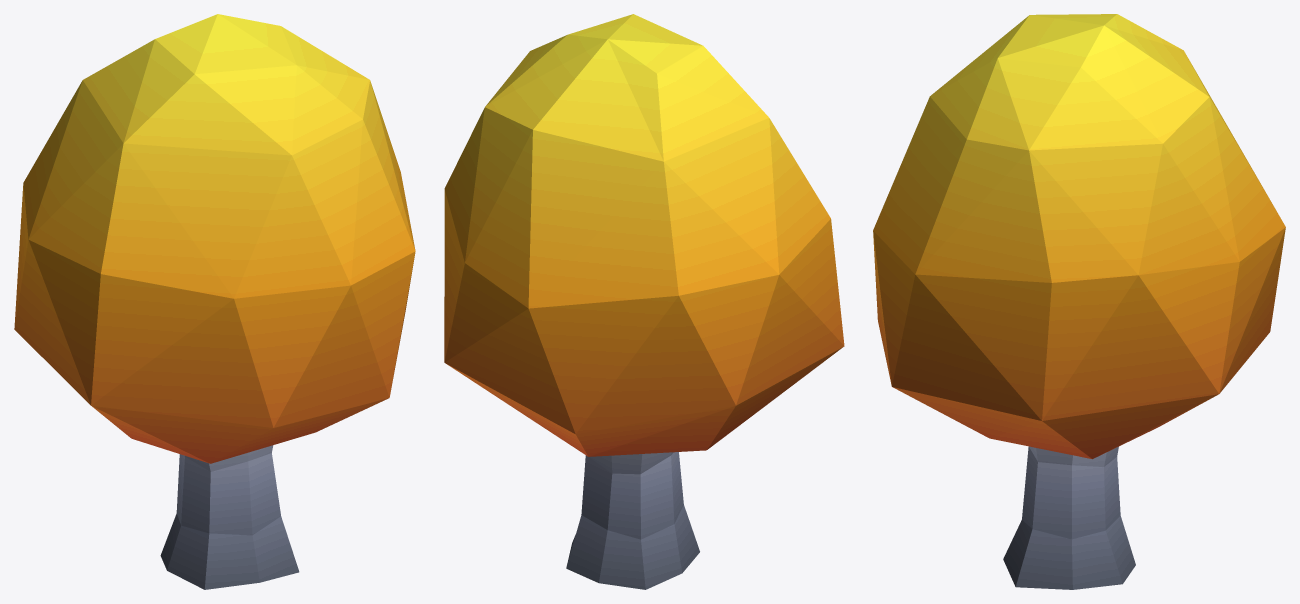
Rendered from Birch_B.glb.
3 views of the same model, side by side, from view 1: azimuth 30°, elevation 25°; view 2: azimuth 150°, elevation 25°; view 3: azimuth 270°, elevation 25° (orthographic). The views are drawn at different scales.
Visible parts, largest first — view 1: Birch_Leaves_B, Birch_Trunk_B; view 2: Birch_Leaves_B, Birch_Trunk_B; view 3: Birch_Leaves_B, Birch_Trunk_B.
Part boxes in pixels (left/top/right/bottom): Birch_Leaves_B: left=14, top=14, right=415, bottom=463; Birch_Trunk_B: left=160, top=445, right=299, bottom=589; Birch_Leaves_B: left=444, top=14, right=844, bottom=456; Birch_Trunk_B: left=566, top=452, right=699, bottom=589; Birch_Leaves_B: left=873, top=14, right=1285, bottom=459; Birch_Trunk_B: left=1003, top=446, right=1135, bottom=589.
Size of the model in its own units: 2.7 by 4.07 by 2.8.
Materials: 1 (1 with a texture image).
